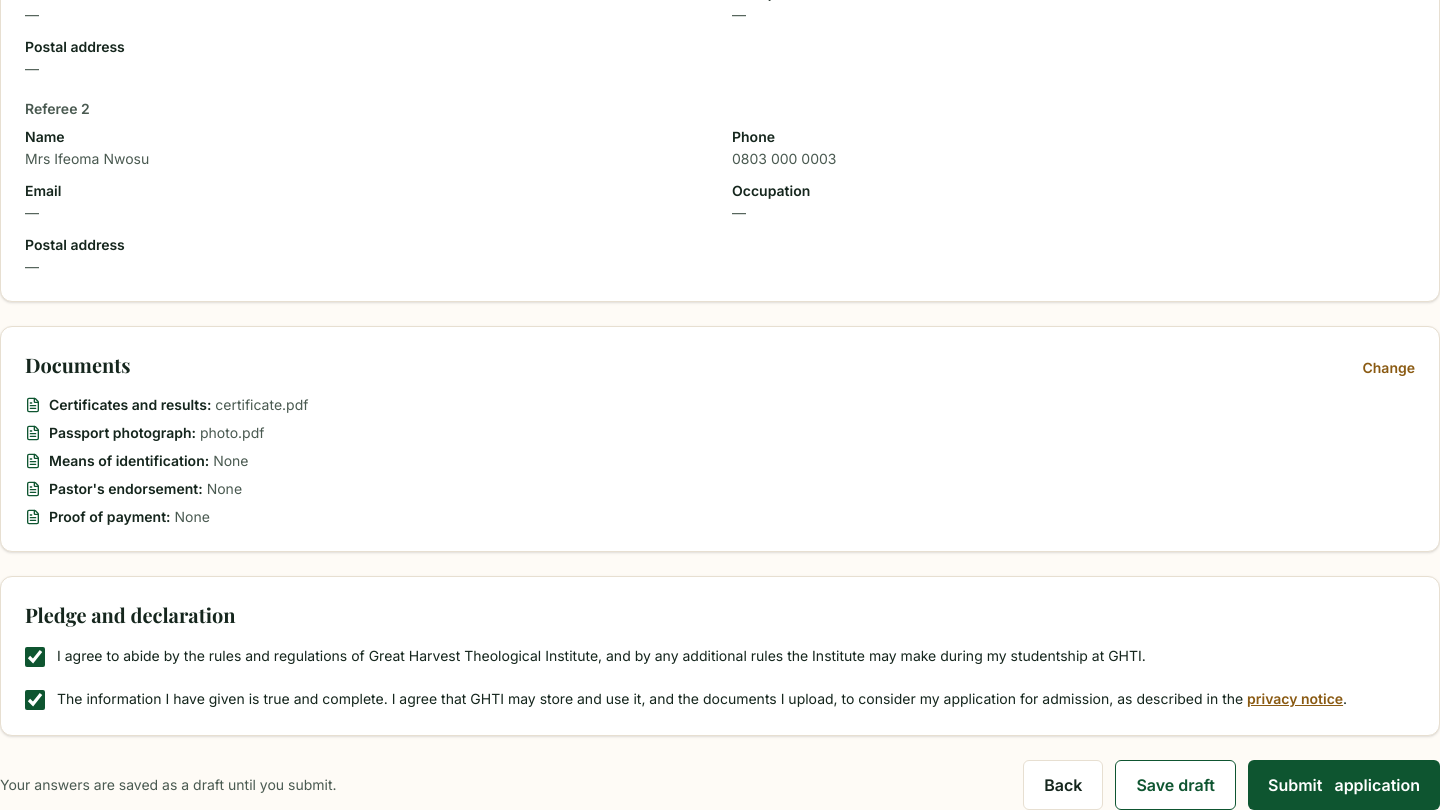
Scenario: ApplicationForm › a submit the server refuses (the intake closed meanwhile) opens that step
This screenshot has width=1440, height=810.
(page scrolled)
What coordinates should you click on to do the following:
click the button "Submit application"
I would click on:
 (1344, 784)
Its box is [1248,760,1439,809].
(page scrolled)
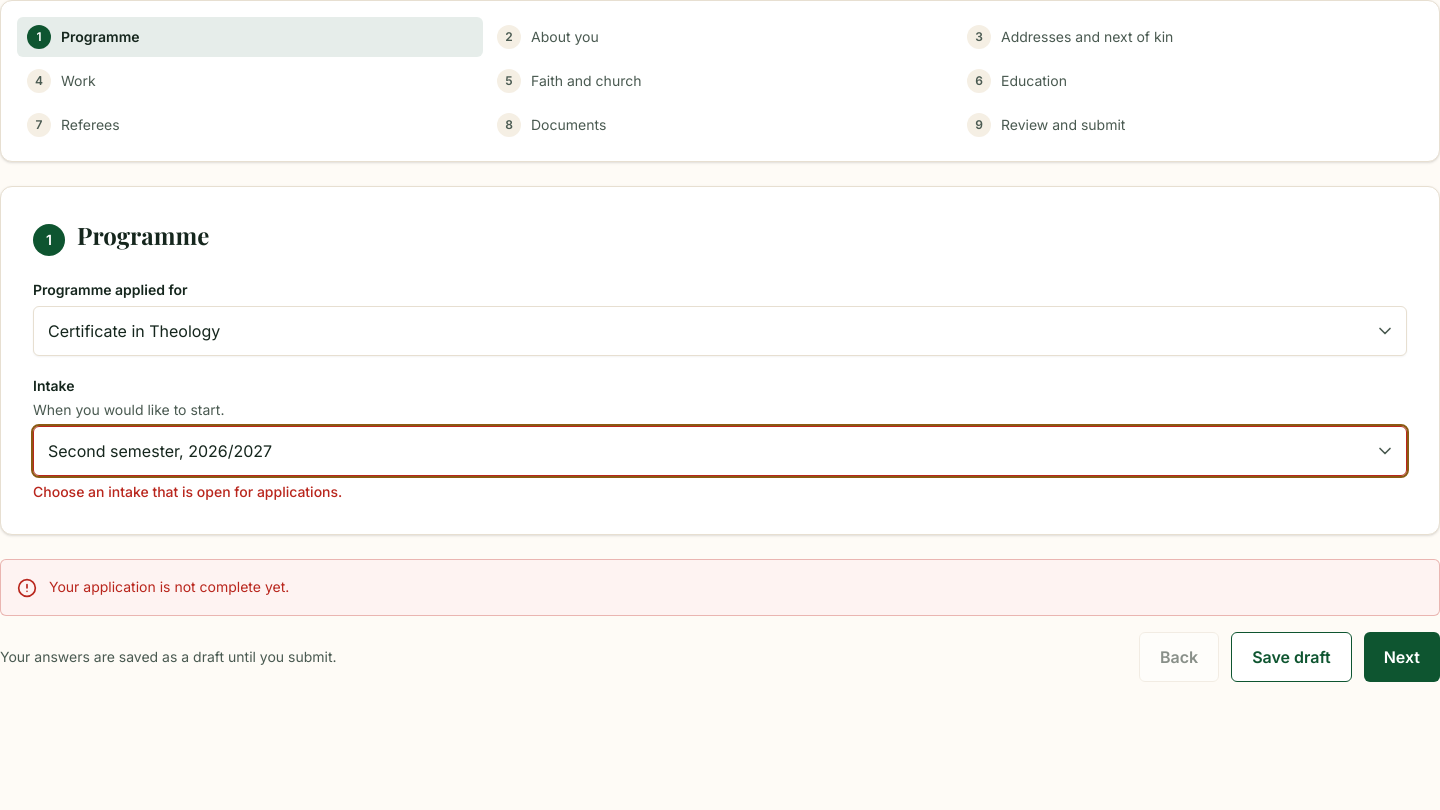
expect the button "1 Programme" is shown: met, box [17,17,483,57]
expect the text "Choose an intake that is open for applications." is shown: met, box [33,483,342,500]
